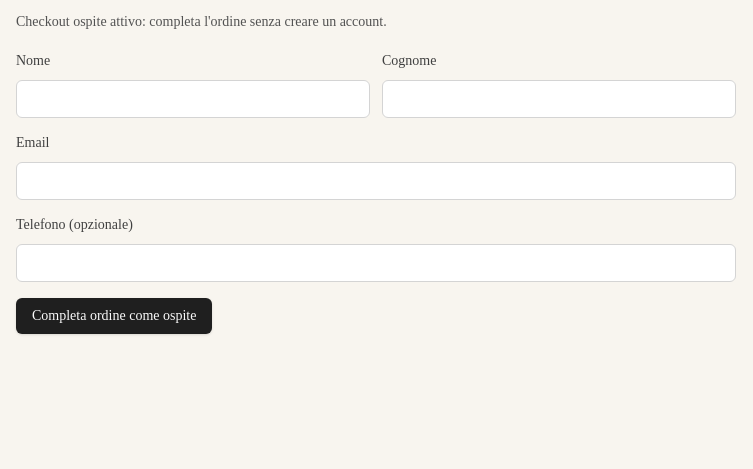
Test: preserves guest order fields and passes independent capability to PayPal
Type "Guest" into the field labelled "Nome".
click(193, 99); type("Guest")  # box [16,80,370,118]
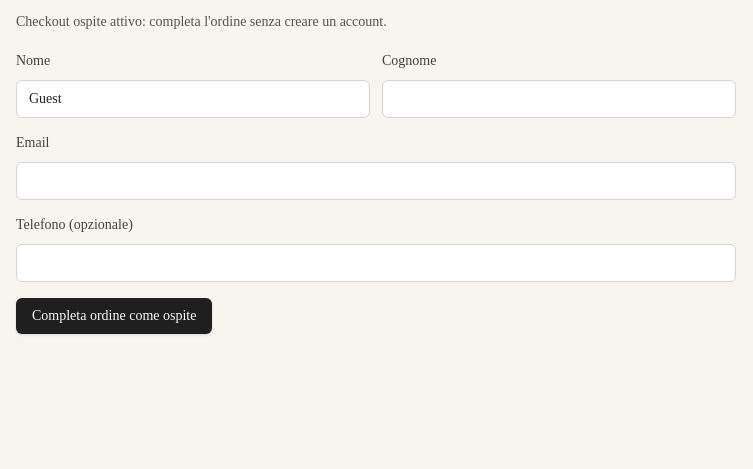
Type "Customer" into the field labelled "Cognome".
click(559, 99); type("Customer")  # box [382,80,736,118]
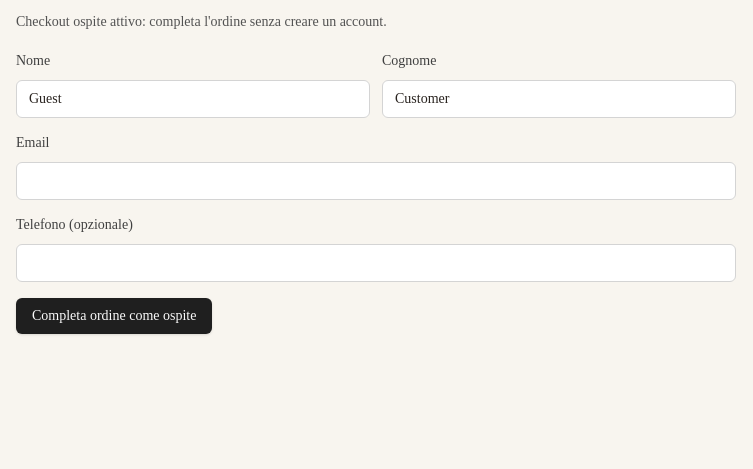
Type "guest@example.test" into the field labelled "Email".
click(376, 181); type("guest@example.test")  # box [16,162,736,200]
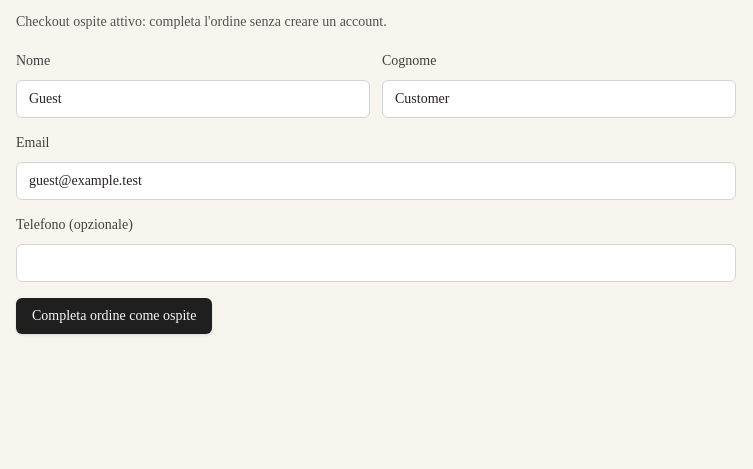
Click the button "Completa ordine come ospite".
click(114, 316)  # box [16,298,212,334]
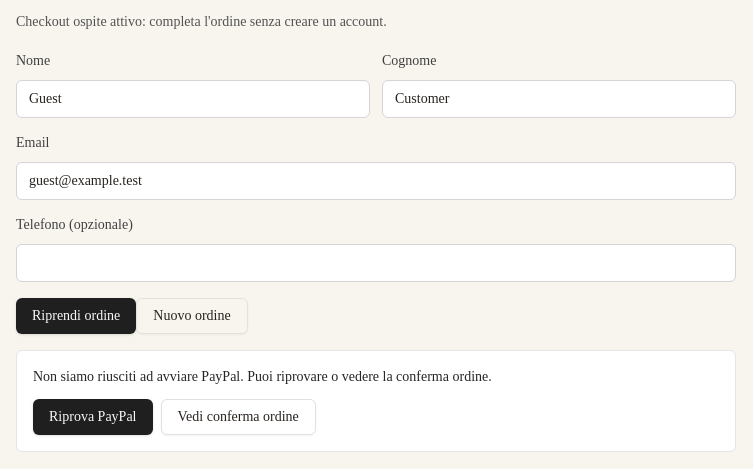
Now the button "Riprova PayPal" is shown, box [33,399,152,435]
